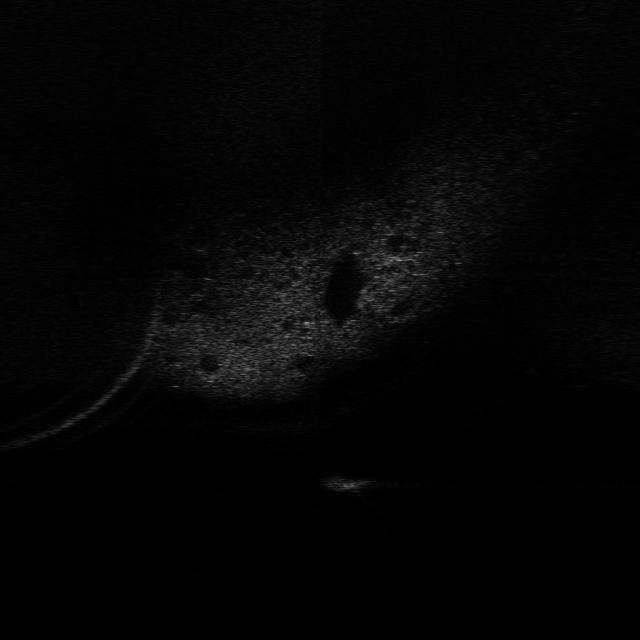cube: (314, 472, 380, 496)
